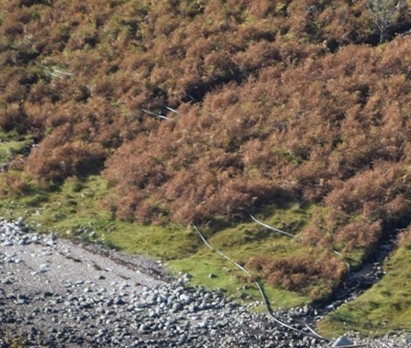tube: (41, 58, 193, 127), (248, 206, 352, 281), (190, 221, 232, 260), (245, 209, 294, 236), (237, 260, 268, 300), (262, 304, 302, 333), (139, 102, 178, 123), (329, 245, 352, 279), (301, 320, 331, 343), (46, 64, 75, 80), (162, 100, 180, 115)
